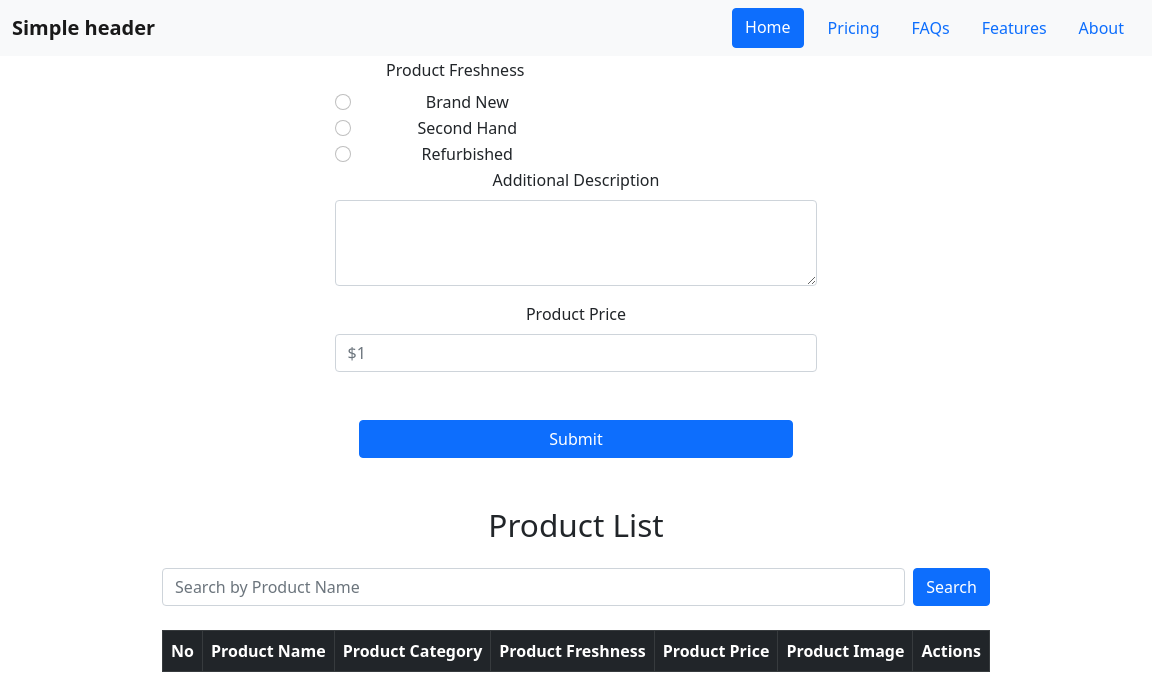
CreateProduct Component › validates required fields
(page scrolled)
Step 1. Click the button "Submit" → {"x": 576, "y": 439}, box [358,420,793,458]
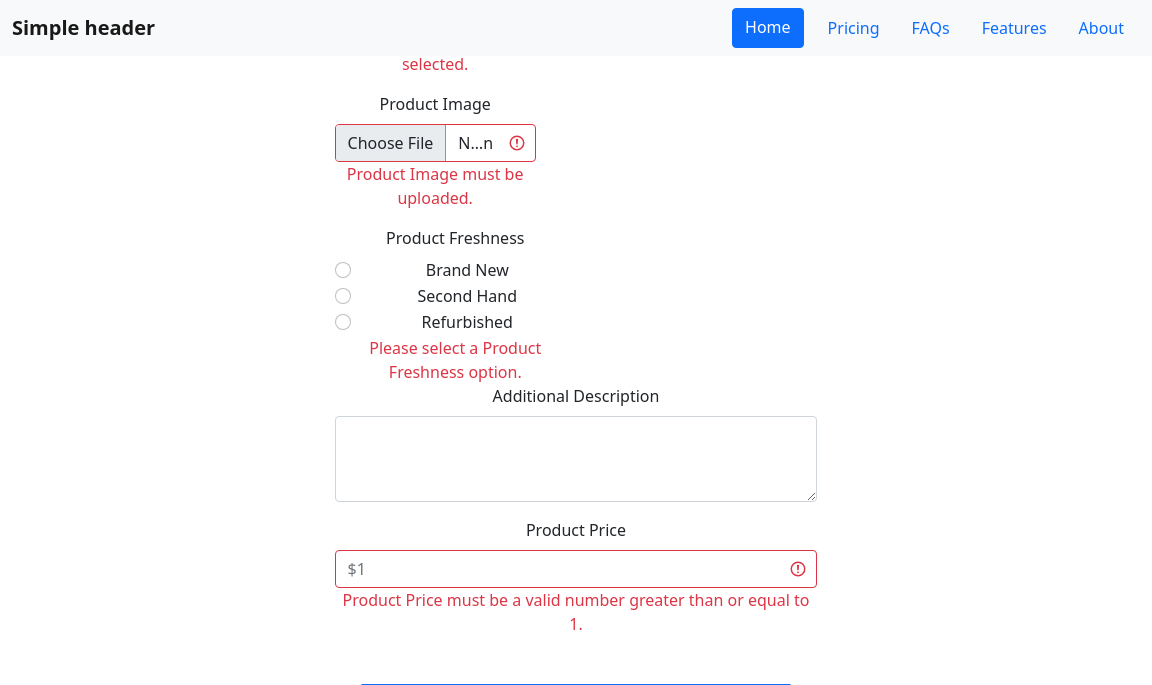
Now the text "Product Category must be selected." is shown, box [334,28,536,76]
Now the text "Product Image must be uploaded." is shown, box [334,162,536,210]
Now the text "Please select a Product Freshness option." is shown, box [369,337,541,383]
